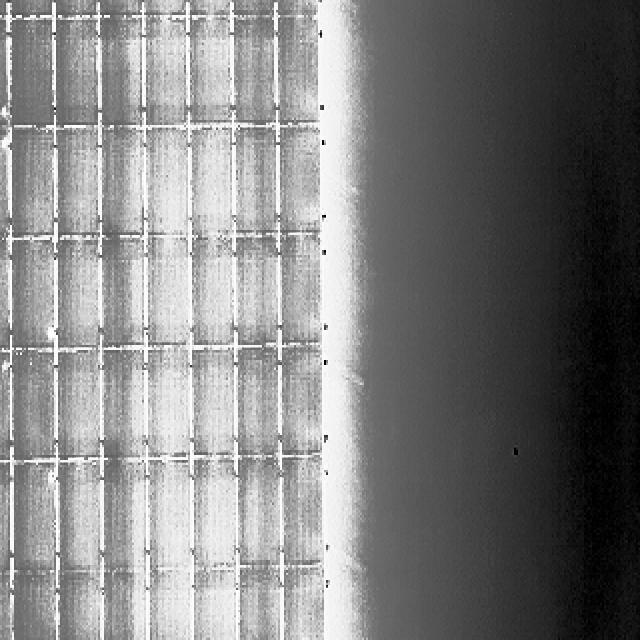Hotspots: (49, 322, 60, 346), (0, 130, 10, 155), (44, 468, 57, 486)
PV-modules: (148, 240, 200, 354), (56, 242, 104, 355), (236, 235, 284, 347), (147, 458, 195, 570), (146, 349, 194, 461), (9, 351, 56, 464), (7, 130, 55, 240), (228, 17, 276, 127), (9, 19, 57, 128), (56, 18, 103, 129), (190, 345, 237, 456), (58, 460, 104, 573), (56, 347, 102, 459), (278, 346, 324, 458), (191, 458, 236, 572), (235, 128, 282, 237), (238, 348, 284, 459), (104, 463, 149, 576), (98, 241, 143, 354), (12, 239, 58, 349), (239, 456, 284, 568), (14, 462, 59, 574), (190, 232, 234, 346), (56, 131, 101, 242), (141, 16, 186, 126), (103, 350, 148, 460), (285, 238, 329, 350), (96, 17, 140, 128), (280, 455, 324, 566), (187, 18, 232, 126), (142, 129, 187, 237), (190, 129, 234, 239), (276, 127, 320, 237), (276, 17, 321, 124), (102, 130, 146, 237), (280, 569, 325, 640), (148, 571, 194, 640), (191, 571, 237, 640), (55, 575, 103, 640), (240, 570, 284, 640), (9, 575, 56, 640), (101, 573, 146, 640), (0, 350, 12, 462), (0, 125, 10, 237), (0, 18, 8, 128), (4, 0, 52, 18), (232, 0, 278, 18), (186, 0, 232, 18), (52, 0, 98, 18), (272, 0, 316, 18), (0, 575, 12, 640), (0, 460, 6, 575), (138, 0, 184, 15), (0, 243, 6, 355), (98, 0, 142, 15), (0, 0, 8, 15)
